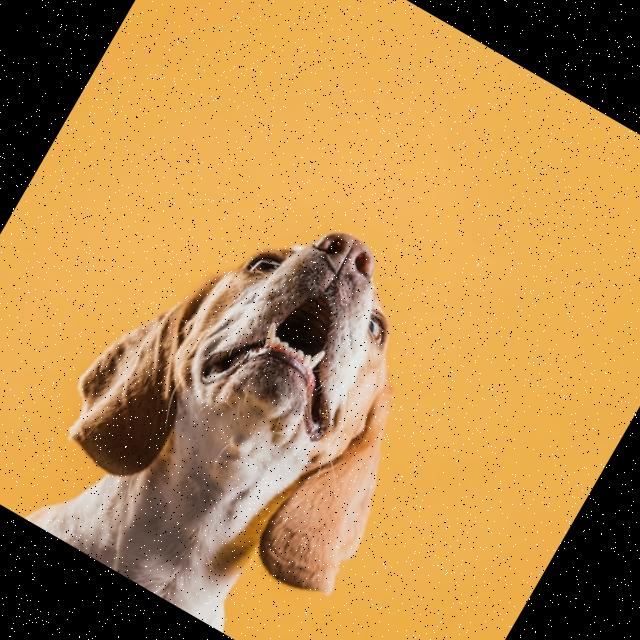Dog: (3, 151, 489, 640)
